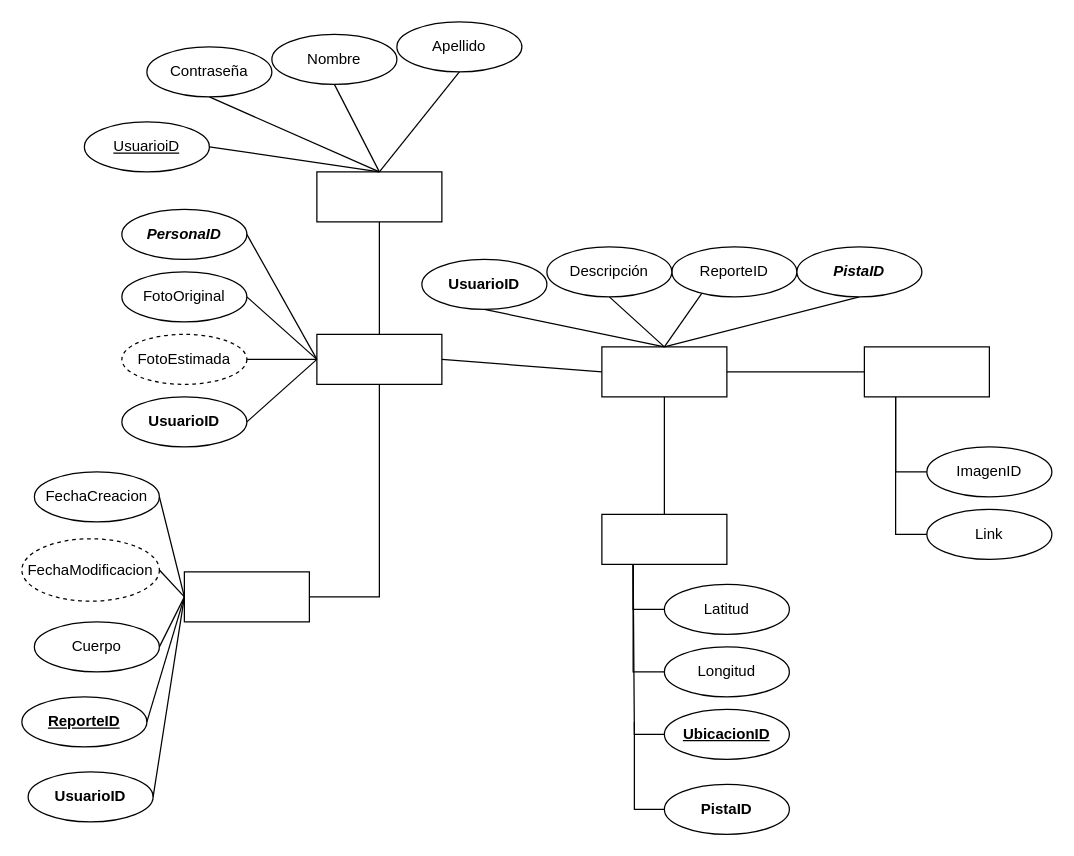
Image size: 1074x856. Some labels were removed from this diagram. The shapes that lost their labels are listed below. From the top down, each one's box as (x1, y1, x2, y2) in pixels, then its label:
(316, 171, 442, 222): Usuario
(316, 333, 442, 384): Persona Desaparecida
(601, 346, 727, 397): Pista
(863, 346, 989, 397): Imagenes
(601, 513, 727, 564): Ubicación
(183, 571, 309, 622): Reporte
